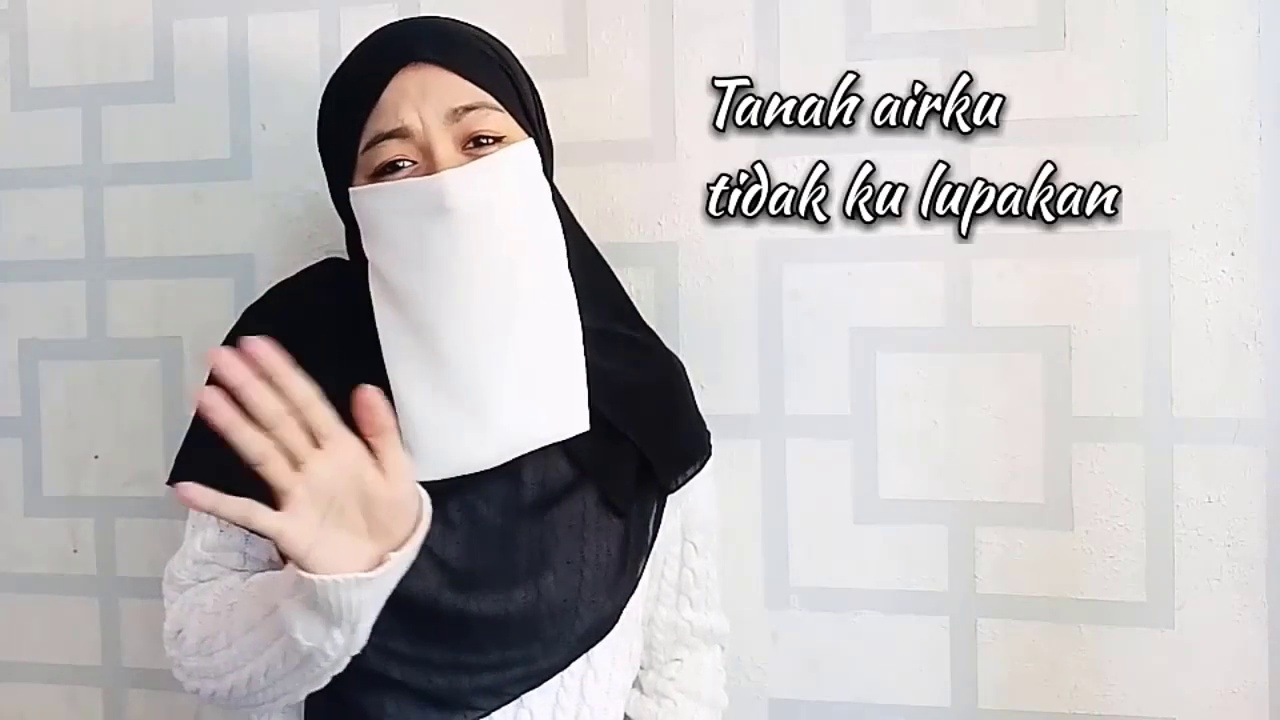TIDAK: (179, 18, 557, 595)
